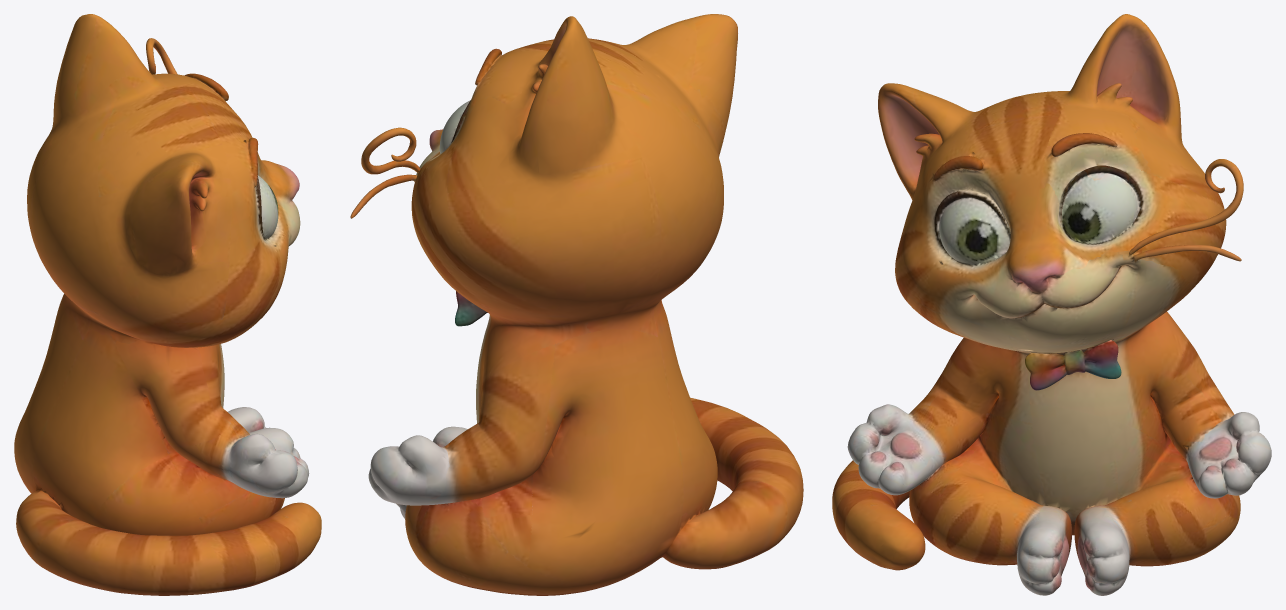
File: funny.glb
3 renders of one model, left to right at view 1: azimuth 30°, elevation 25°; view 2: azimuth 150°, elevation 25°; view 3: azimuth 270°, elevation 25°, orthographic. The views are drawn at different scales.
Parts seen in each view (by area): view 1: tripo_node_84994a7b-632c-4f3a-986d-1cddf080d1ef; view 2: tripo_node_84994a7b-632c-4f3a-986d-1cddf080d1ef; view 3: tripo_node_84994a7b-632c-4f3a-986d-1cddf080d1ef.
Part boxes in pixels (bbox=[...]): tripo_node_84994a7b-632c-4f3a-986d-1cddf080d1ef: bbox=[14, 14, 321, 595]; tripo_node_84994a7b-632c-4f3a-986d-1cddf080d1ef: bbox=[350, 14, 803, 595]; tripo_node_84994a7b-632c-4f3a-986d-1cddf080d1ef: bbox=[832, 14, 1271, 595].
Size of the model in its own units: 0.6216 by 0.9997 by 0.7884.
1 material, 1 textured.
